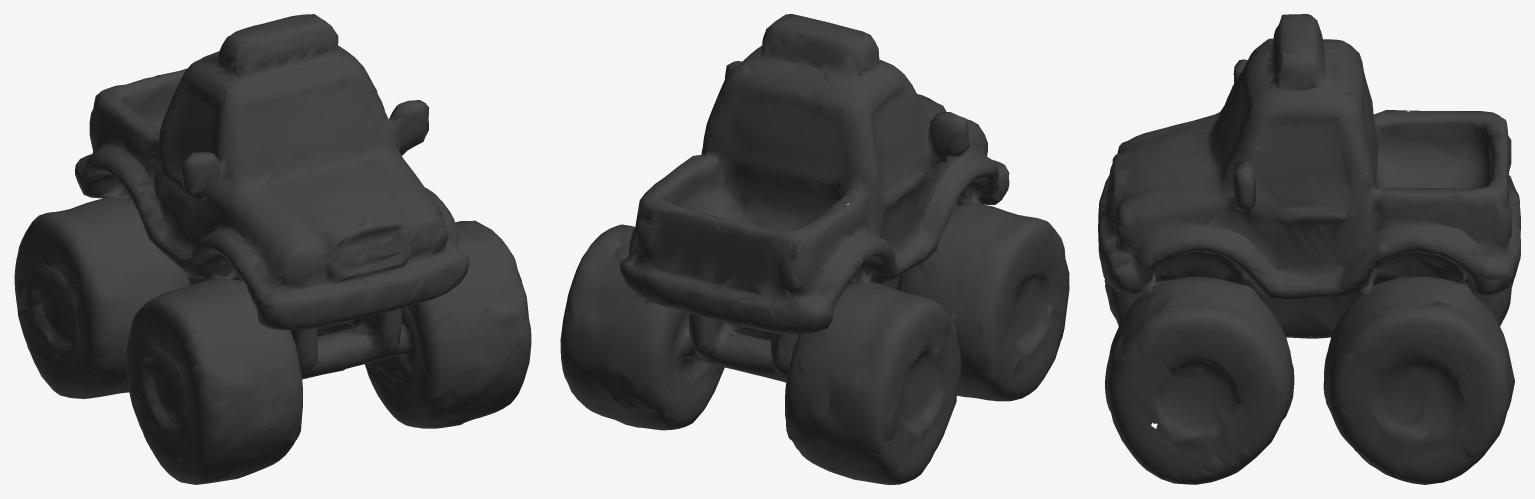
File: car_monster.glb
The picture shows the model from 3 angles, left to right: view 1: azimuth 30°, elevation 25°; view 2: azimuth 150°, elevation 25°; view 3: azimuth 270°, elevation 25°; orthographic projection.
Visible parts, largest first — view 1: geometry_0; view 2: geometry_0; view 3: geometry_0.
Part boxes in pixels (<box>): geometry_0: <box>14,14,531,484</box>; geometry_0: <box>560,14,1069,484</box>; geometry_0: <box>1098,14,1520,484</box>.
Size of the model in its own units: 0.9044 by 0.9954 by 1.
1 material, 1 textured.
